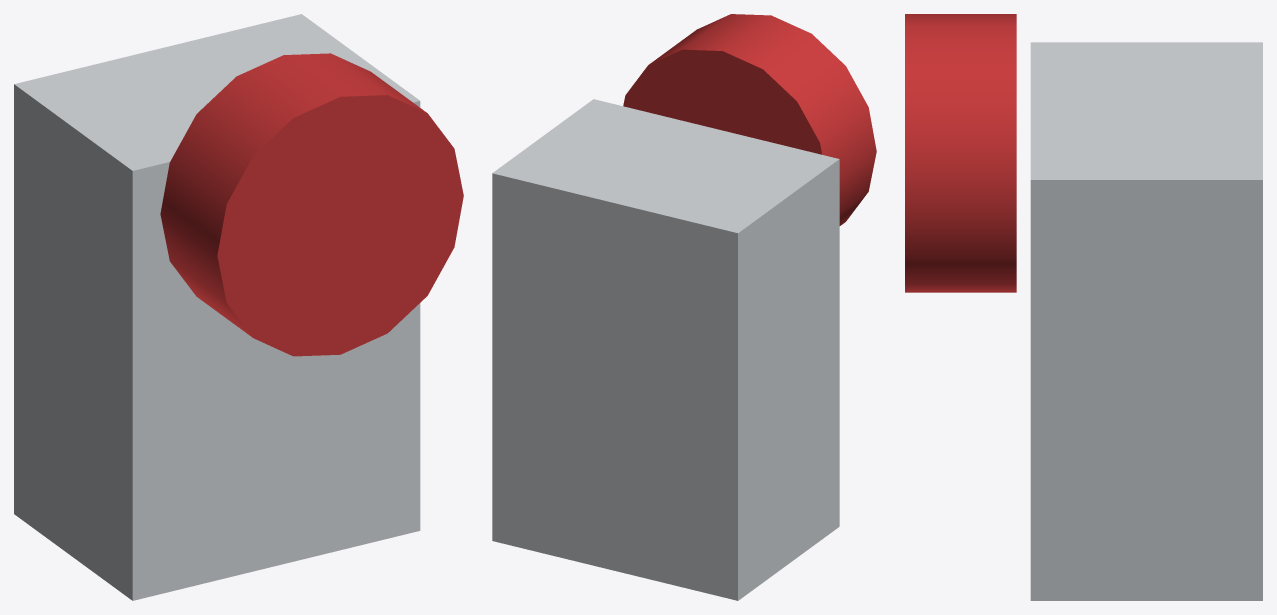
3 views of the same model, side by side, from view 1: azimuth 30°, elevation 25°; view 2: azimuth 150°, elevation 25°; view 3: azimuth 270°, elevation 25° (orthographic). The views are drawn at different scales.
Visible parts, largest first — view 1: 开关操作件; view 2: 开关操作件; view 3: 开关操作件.
Part boxes in pixels (<box>): 开关操作件: <box>14,14,463,600</box>; 开关操作件: <box>492,14,876,600</box>; 开关操作件: <box>905,14,1262,600</box>.
Bounding box in the file's own units: 0.35 × 0.6 × 0.385.
